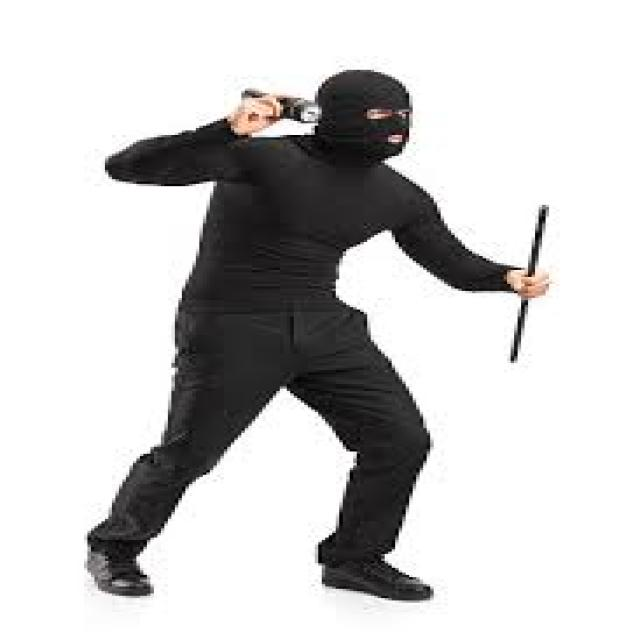person-with-mask: (68, 59, 585, 613)
